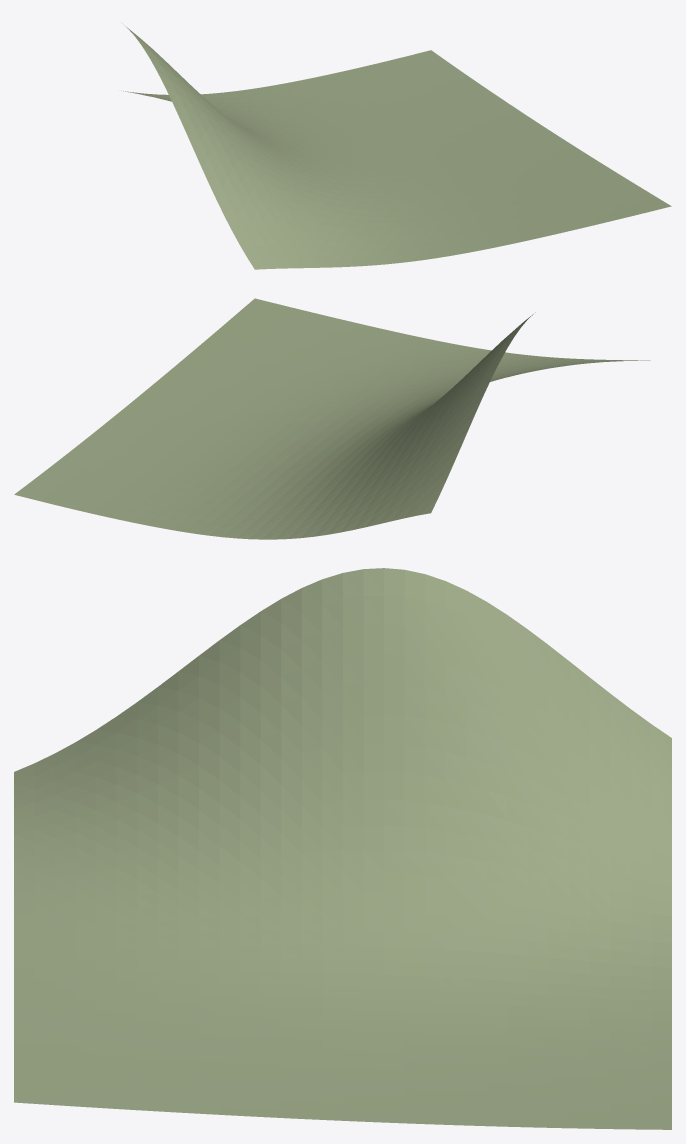
The model's file is canyon-5-3.glb.
The picture shows the model from 3 angles, top to bottom: view 1: azimuth 30°, elevation 25°; view 2: azimuth 150°, elevation 25°; view 3: azimuth 270°, elevation 25°; orthographic projection. The views are drawn at different scales.
Visible parts, largest first — view 1: canyon-5-3; view 2: canyon-5-3; view 3: canyon-5-3.
Part boxes in pixels (<box>): canyon-5-3: <box>121,23,671,269</box>; canyon-5-3: <box>14,298,650,539</box>; canyon-5-3: <box>14,568,671,1129</box>.
Bounding box in the file's own units: 128 × 60.99 × 128.
